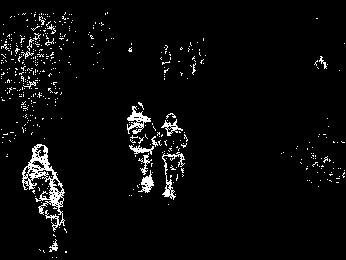person: (23, 142, 68, 252), (127, 101, 158, 194), (155, 112, 186, 201)
